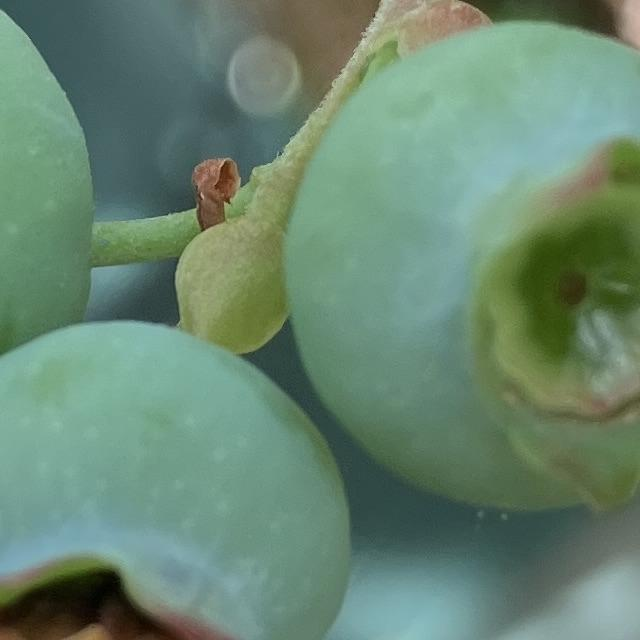Blueberries: (279, 16, 640, 517), (0, 324, 356, 640)
